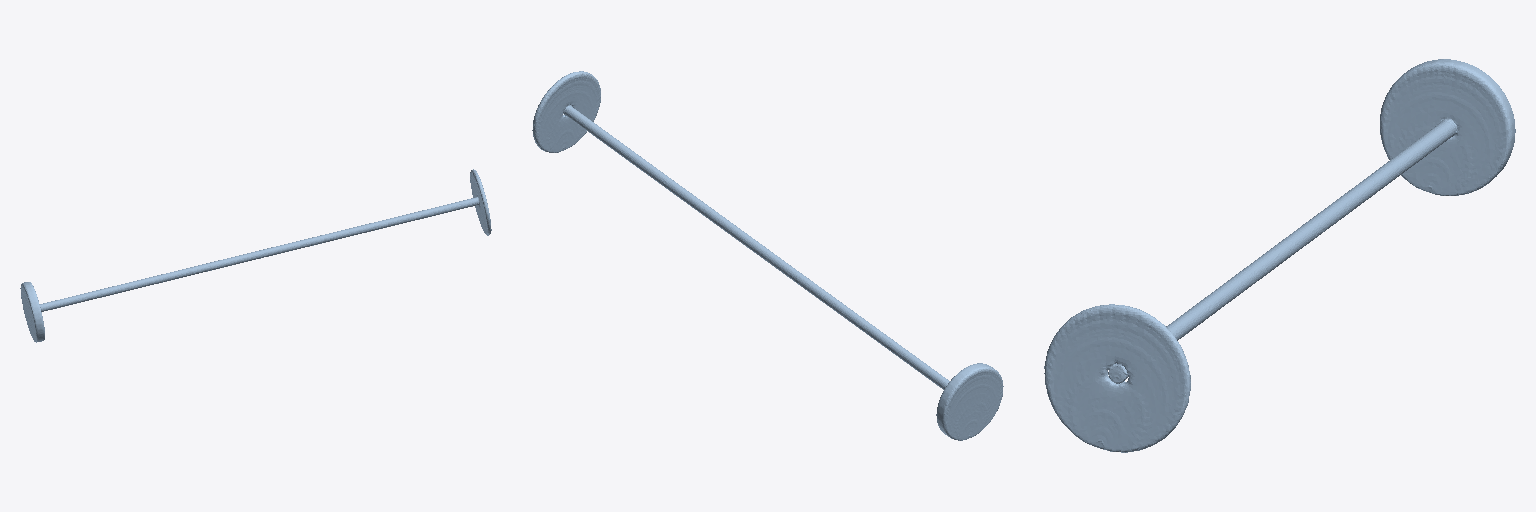
The robot description file, URDF, robot "floorlamp":
<?xml version="1.0" ?>
<robot name="floorlamp">
  <link name="floorlamp_link">
    <inertial>
      <mass value="0.1"/>
      <origin xyz="0 0 0"/>
      <inertia ixx="0.002" ixy="0" ixz="0" iyy="0.002" iyz="0" izz="0.002"/>
    </inertial>
    <visual>
      <origin rpy="0 0 0" xyz="0 0 0"/>
      <geometry>
        <mesh filename="floorlamp.obj" scale="1.0 1.0 1.0"/>
      </geometry>
      <material name="mat">
        <color rgba="0.7 0.8 0.9 0.7"/>
      </material>
    </visual>
    <collision name="floorlamp">
      <origin rpy="0 0 0" xyz="0 0 0"/>
      <geometry>
        <mesh filename="floorlamp.obj" scale="1.0 1.0 1.0"/>
      </geometry>
    </collision>
  </link>
</robot>

--- Render facts (derived) ---
Views: 3 orthographic renders of the robot side by side, from view 1: azimuth 30°, elevation 25°; view 2: azimuth 150°, elevation 25°; view 3: azimuth 270°, elevation 25°.
Model floorlamp with 1 links and 0 joints (none), rooted at floorlamp_link, posed every joint at zero.
Visible links, largest first — view 1: floorlamp_link; view 2: floorlamp_link; view 3: floorlamp_link.
Boxes of the visible links, left/top/right/bottom form: floorlamp_link: left=20, top=169, right=491, bottom=342; floorlamp_link: left=532, top=71, right=1003, bottom=440; floorlamp_link: left=1044, top=59, right=1515, bottom=452.
Bounding box of the posed robot: 1.72 × 0.7802 × 0.5354 m (x, y, z).
Meshes: 1 distinct files referenced, 1 mesh visuals loaded (1 OBJ).
